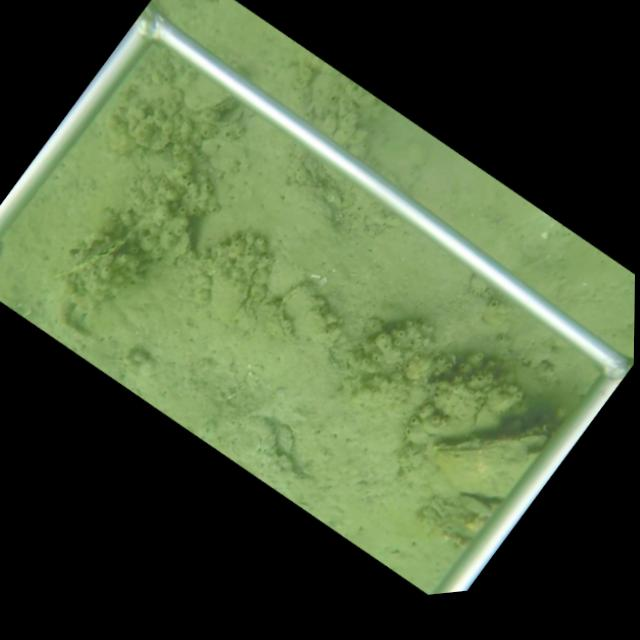Oyster-Closed: (431, 426, 554, 502), (51, 234, 135, 283), (184, 72, 238, 113), (227, 266, 259, 324), (161, 229, 193, 270), (200, 108, 245, 130)
Oyster-Indeterminate: (277, 280, 340, 348), (273, 421, 293, 458)
